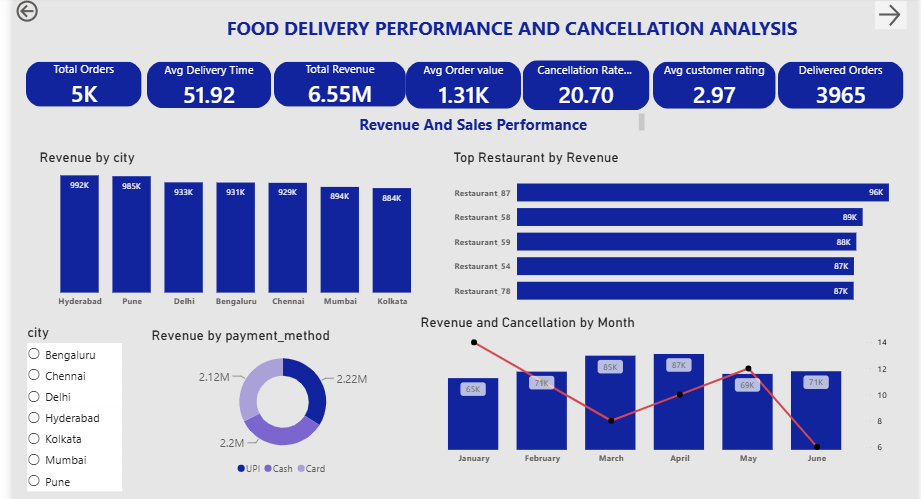

Layout of this report page (visuals, bound fields, positions):
{"tool":"powerbi","page":{"name":"Page 1","canvas":[1280,720],"ordinal":0},"visuals":[{"type":"actionButton","box":[0,0,100,40],"z":0},{"type":"lineClusteredColumnComboChart","title":"Revenue and Cancellation by Month","fields":{"Category":["food_db processed_food_delivery_data.order_datetime.Variation.Date Hierarchy.Month"],"Y":["Sum(food_db processed_food_delivery_data.order_value)"],"Y2":["food_db processed_food_delivery_data.Total_cancelations"]},"box":[572.6,449.3,671.8,222.5],"z":1000},{"type":"columnChart","title":"Revenue by city","fields":{"Category":["food_db processed_food_delivery_data.city"],"Y":["Sum(food_db processed_food_delivery_data.order_value)"]},"box":[32.3,215.5,567.7,233.5],"z":2000},{"type":"barChart","title":"Top Restaurant by Revenue","fields":{"Y":["Sum(food_db processed_food_delivery_data.order_value)"],"Category":["food_db processed_food_delivery_data.restaurant_name"]},"box":[619.4,215.5,647.7,233.5],"z":3000},{"type":"donutChart","title":"Revenue by payment_method","fields":{"Category":["food_db processed_food_delivery_data.payment_method"],"Y":["Sum(food_db processed_food_delivery_data.order_value)"]},"box":[191,468.4,381.9,219.4],"z":4000},{"type":"cardVisual","fields":{"Data":["CountNonNull(food_db processed_food_delivery_data.order_id)"]},"box":[1.3,76.1,198.7,96.8],"z":5000},{"type":"cardVisual","fields":{"Data":["Avg(food_db processed_food_delivery_data.order_value)"]},"box":[540.3,76.6,197.9,99.7],"z":6000},{"type":"cardVisual","fields":{"Data":["food_db processed_food_delivery_data.Cancellation Rate Overall"]},"box":[707.1,76.1,210.3,99.4],"z":7000},{"type":"cardVisual","fields":{"Data":["Avg(food_db processed_food_delivery_data.delivery_time_min)"]},"box":[172.9,76.1,210.3,98.1],"z":8000},{"type":"cardVisual","fields":{"Data":["Sum(food_db processed_food_delivery_data.order_value)"]},"box":[353,76.5,221.1,96.4],"z":9000},{"type":"textbox","box":[277.8,19.8,858.9,65.2],"z":10000},{"type":"actionButton","box":[1221.8,6,44.8,40.3],"z":11000},{"type":"textbox","box":[410.3,160,489,36.1],"z":12000},{"type":"cardVisual","fields":{"Data":["food_db processed_food_delivery_data.Delivered Orders"]},"box":[1067.6,76.6,212.4,99.7],"z":13000},{"type":"cardVisual","fields":{"Data":["Avg(food_db processed_food_delivery_data.customer_rating)"]},"box":[889.9,76.6,208,99.7],"z":14000},{"type":"listSlicer","fields":{"Values":["food_db processed_food_delivery_data.city"]},"box":[15.9,463.7,157.5,255.7],"z":16000}]}

Visuals, with their boxes on the page's 1280x720 design canvas (x1, y1, x2, y2). These are canvas units, not pixel positions in the 921x499 screenshot, which may show the page scaled, cropped or inside an application window:
actionButton: BBox(0, 0, 100, 40)
"Revenue and Cancellation by Month" lineClusteredColumnComboChart: BBox(573, 449, 1244, 672)
"Revenue by city" columnChart: BBox(32, 216, 600, 449)
"Top Restaurant by Revenue" barChart: BBox(619, 216, 1267, 449)
"Revenue by payment_method" donutChart: BBox(191, 468, 573, 688)
cardVisual - CountNonNull(food_db processed_food_delivery_data.order_id): BBox(1, 76, 200, 173)
cardVisual - Avg(food_db processed_food_delivery_data.order_value): BBox(540, 77, 738, 176)
cardVisual - food_db processed_food_delivery_data.Cancellation Rate Overall: BBox(707, 76, 917, 176)
cardVisual - Avg(food_db processed_food_delivery_data.delivery_time_min): BBox(173, 76, 383, 174)
cardVisual - Sum(food_db processed_food_delivery_data.order_value): BBox(353, 76, 574, 173)
textbox: BBox(278, 20, 1137, 85)
actionButton: BBox(1222, 6, 1267, 46)
textbox: BBox(410, 160, 899, 196)
cardVisual - food_db processed_food_delivery_data.Delivered Orders: BBox(1068, 77, 1280, 176)
cardVisual - Avg(food_db processed_food_delivery_data.customer_rating): BBox(890, 77, 1098, 176)
listSlicer - food_db processed_food_delivery_data.city: BBox(16, 464, 173, 719)
